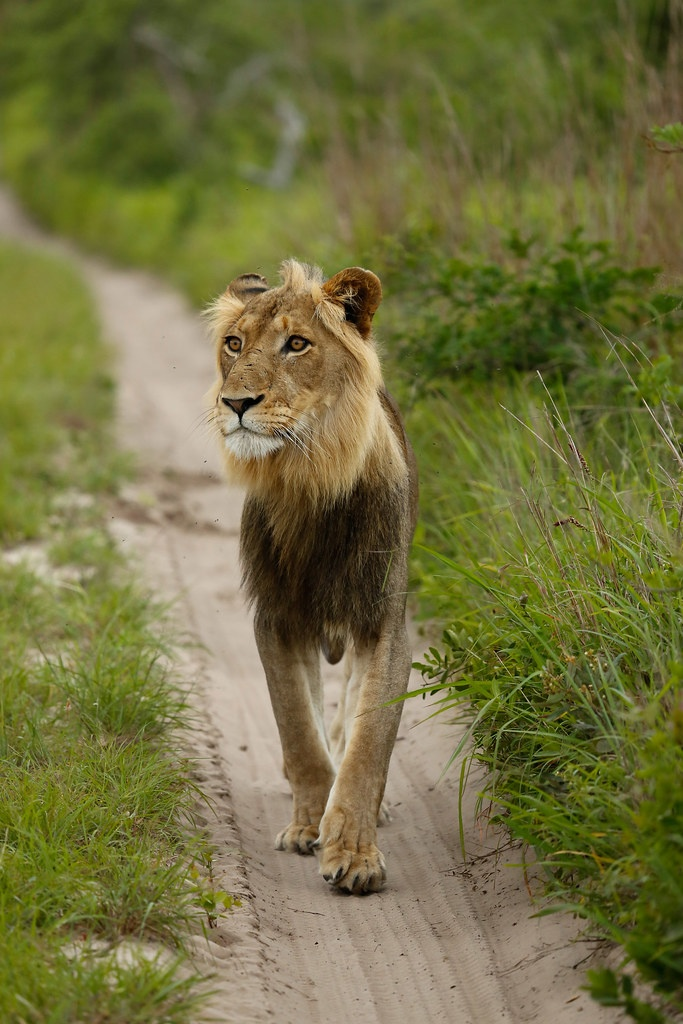lion: (201, 244, 445, 896)
